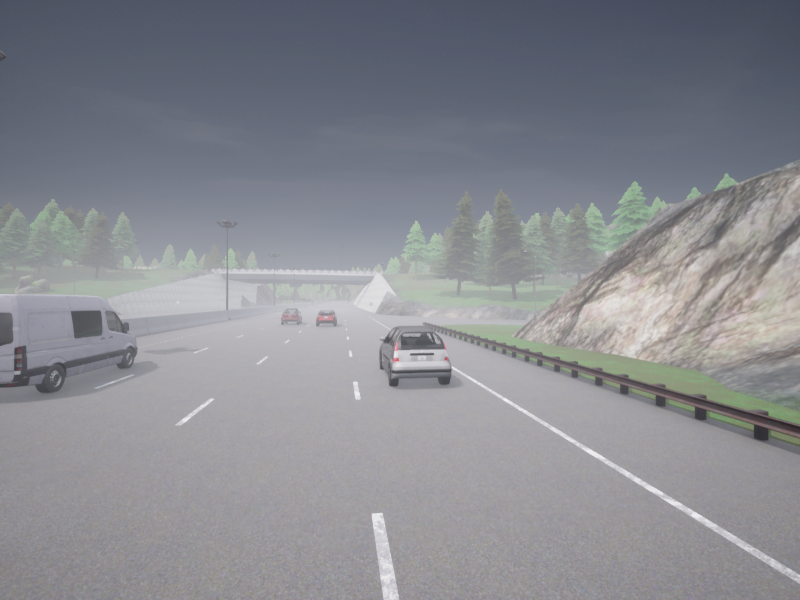vehicle: (0, 294, 137, 392), (379, 326, 451, 386), (316, 309, 337, 326), (281, 309, 301, 324)
